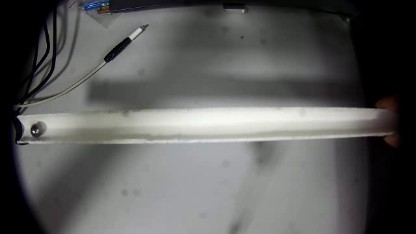gangzhu: (29, 120, 46, 137)
